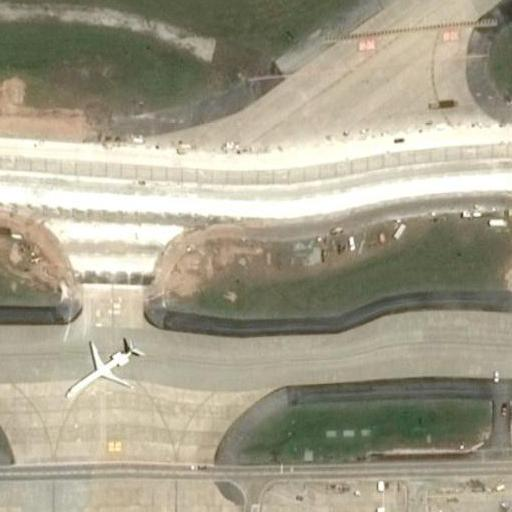Aircraft: (62, 332, 144, 402), (483, 502, 512, 512)
